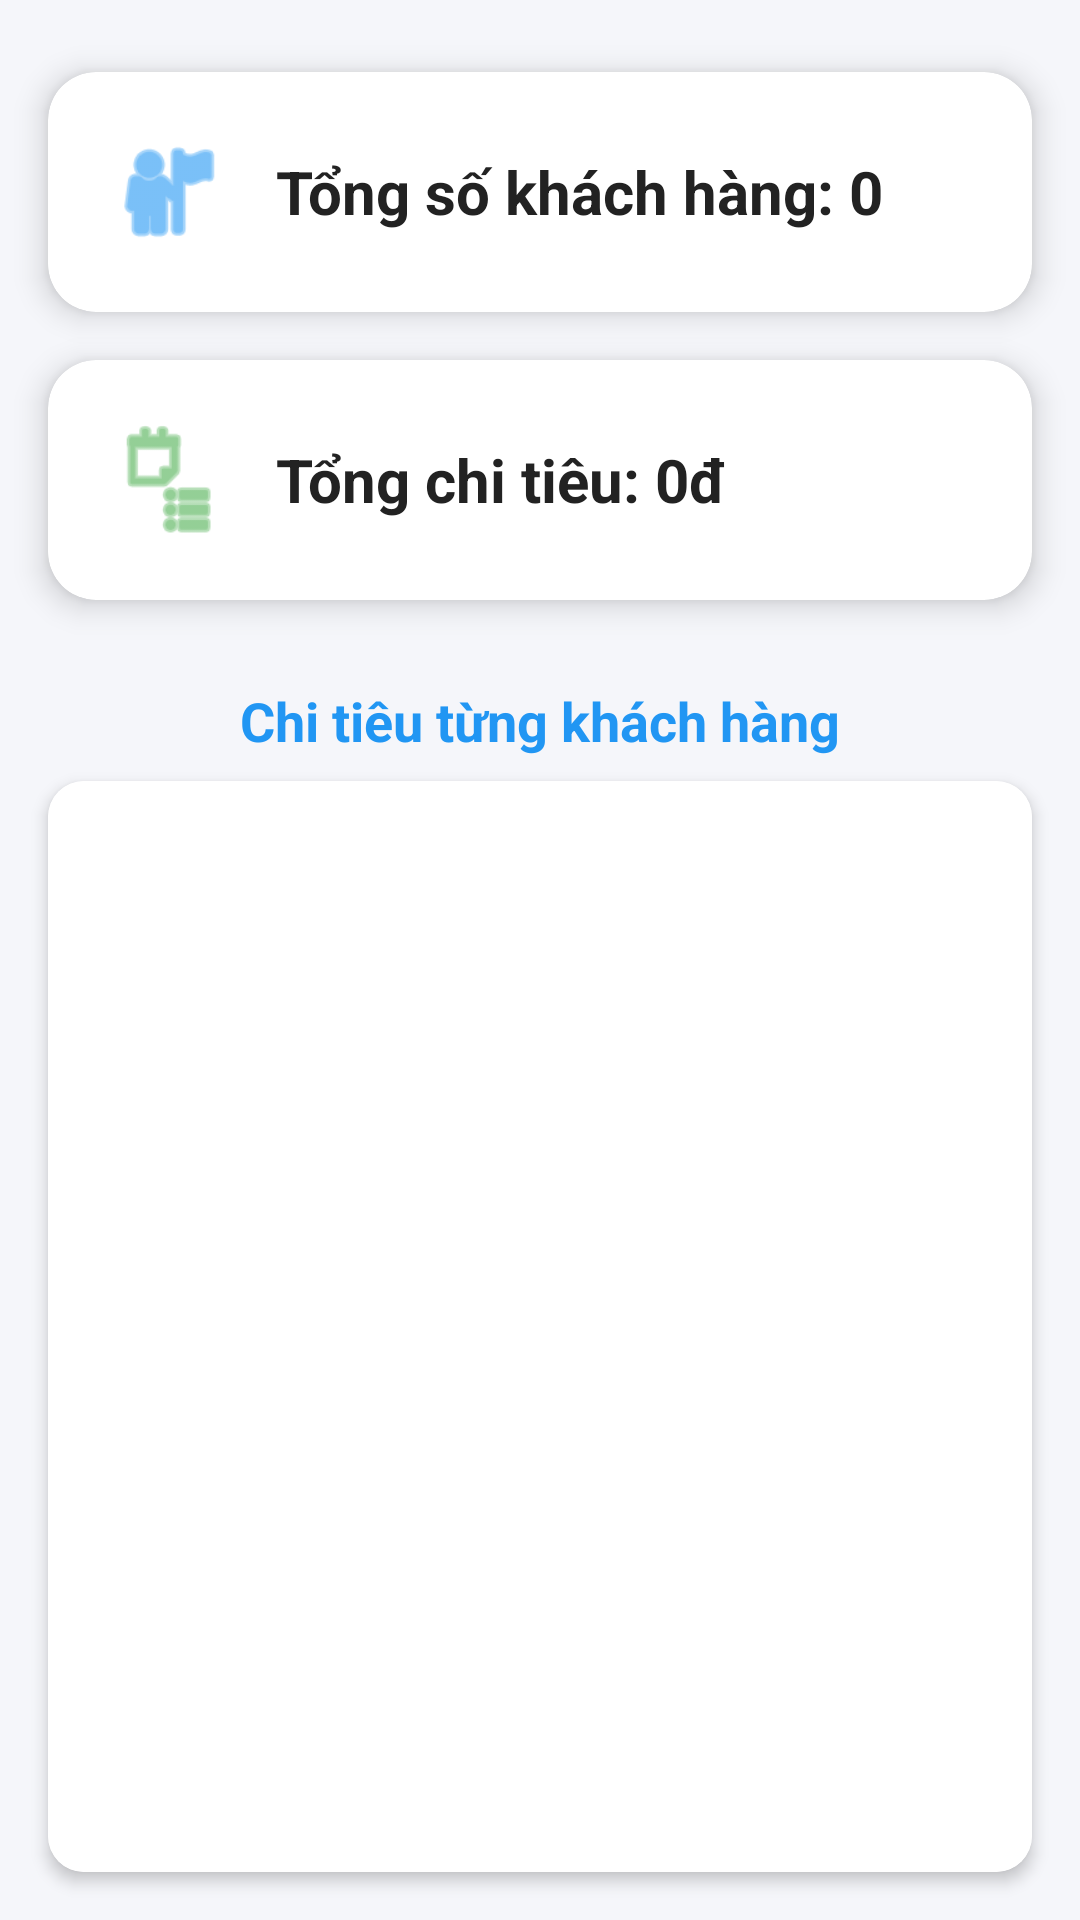

Locate icon controls on the screen. Image size 1080 × 1920, boxes as region(x1, y1, x2, y2).
agenda: region(127, 426, 211, 533)
myplaces: region(124, 147, 214, 237)
